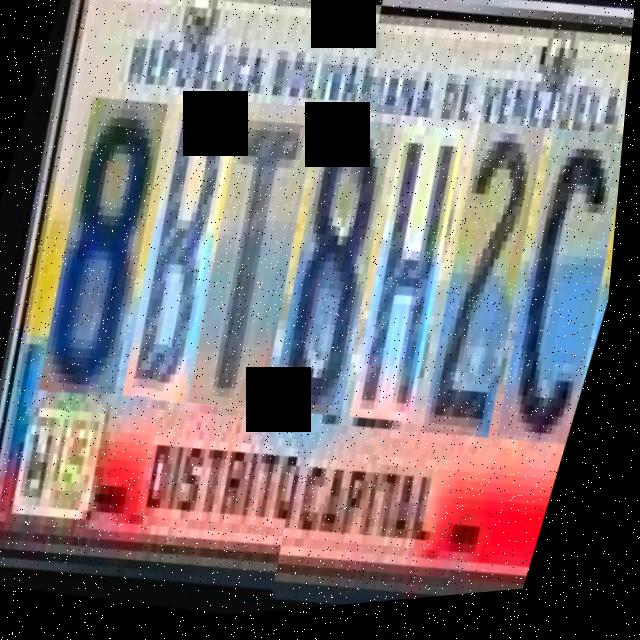2: (394, 116, 573, 449)
8: (10, 90, 191, 408), (244, 107, 421, 424)
B: (93, 92, 264, 414)
C: (467, 126, 628, 460)
H: (322, 117, 490, 431)
T: (158, 97, 343, 424)
